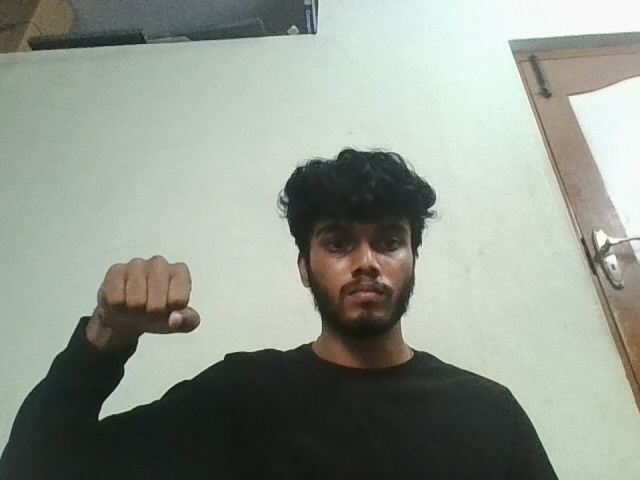yes: (76, 240, 229, 347)
